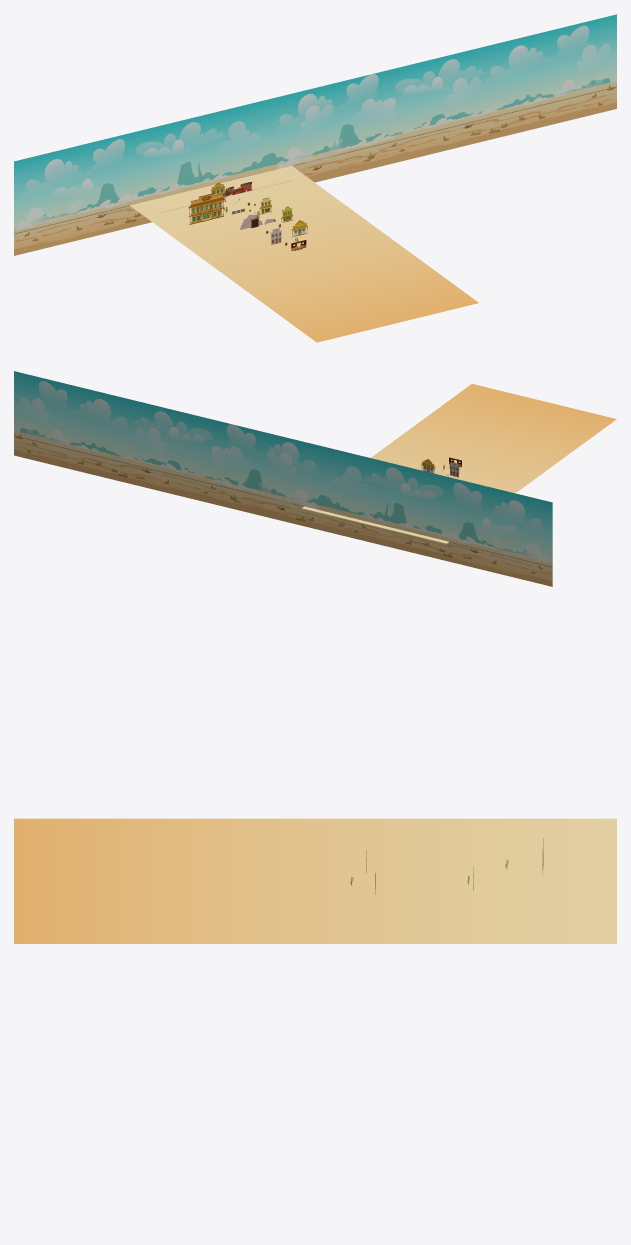
The model's file is superstage.gltf.
The picture shows the model from 3 angles, top to bottom: view 1: azimuth 30°, elevation 25°; view 2: azimuth 150°, elevation 25°; view 3: azimuth 270°, elevation 25°; orthographic projection. The views are drawn at different scales.
Parts seen in each view (by area): view 1: Horizon, Ground, Hotel; view 2: Horizon, Ground; view 3: Ground.
Part boxes in pixels (left/top/right/bottom): Horizon: left=14, top=14, right=616, bottom=255; Ground: left=130, top=166, right=478, bottom=342; Hotel: left=188, top=193, right=224, bottom=224; Horizon: left=14, top=371, right=552, bottom=586; Ground: left=302, top=384, right=616, bottom=543; Ground: left=14, top=818, right=616, bottom=943.
Size of the model in its own units: 206 by 30.86 by 113.
38 materials, 38 textured.
